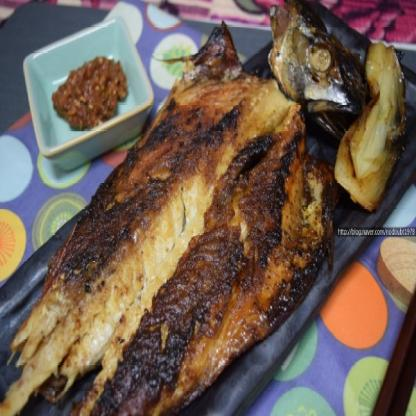Peixe: (12, 0, 413, 414)
